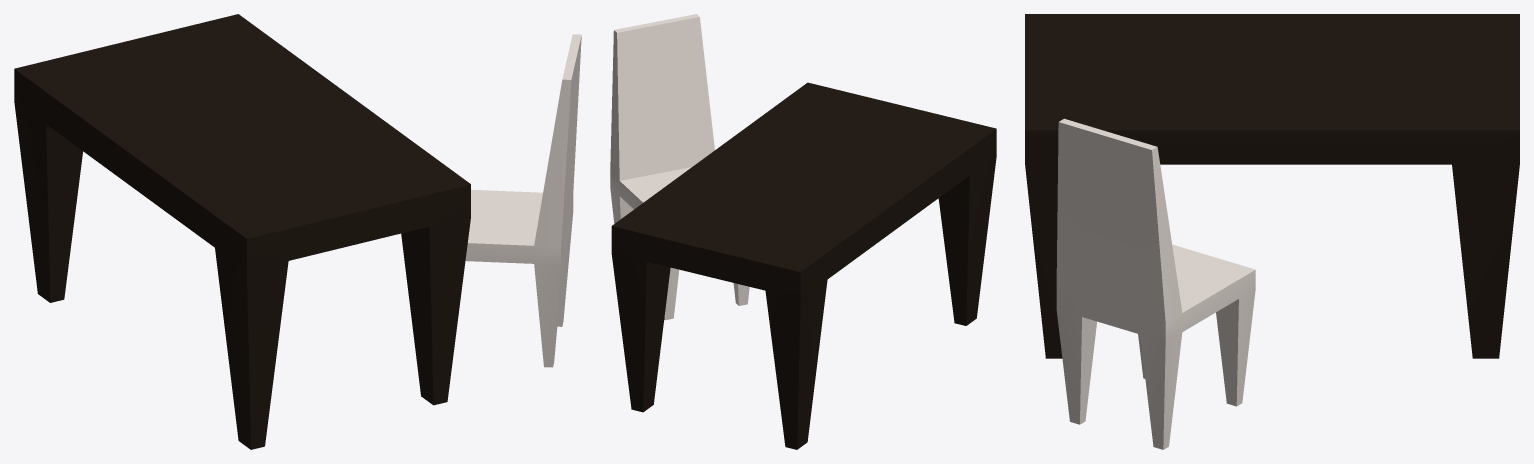
Rendered from Desk.fbx.
3 views of the same model, side by side, from view 1: azimuth 30°, elevation 25°; view 2: azimuth 150°, elevation 25°; view 3: azimuth 270°, elevation 25° (orthographic). The views are drawn at different scales.
Visible parts, largest first — view 1: Desk; view 2: Desk; view 3: Desk.
Part boxes in pixels (x1,y1,x2,y2): Desk: (14,14,581,449); Desk: (610,14,996,449); Desk: (1025,14,1519,449).
Size of the model in its own units: 14.22 by 9.93 by 14.53.
Materials: 1 (1 with a texture image).
